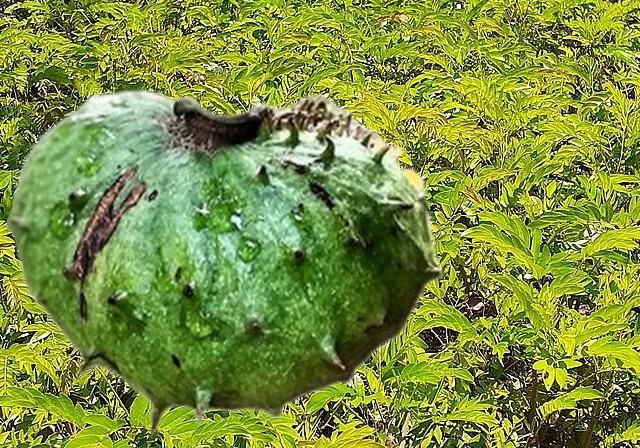guyabano: (4, 88, 443, 435)
